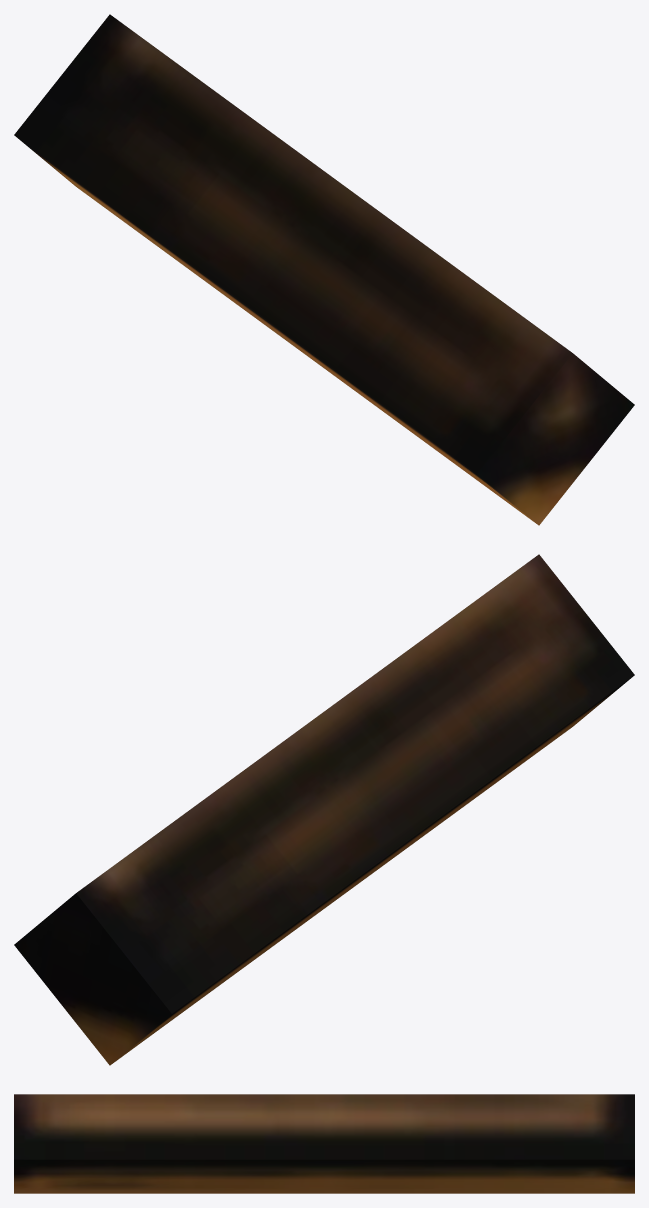
The model's file is pump_body__gauge_needle.glb.
3 renders of one model, top to bottom at view 1: azimuth 30°, elevation 25°; view 2: azimuth 150°, elevation 25°; view 3: azimuth 270°, elevation 25°, orthographic. The views are drawn at different scales.
Parts seen in each view (by area): view 1: geometry_0; view 2: geometry_0; view 3: geometry_0.
Boxes of the visible parts, box(x1,y1,x2,y2) form: geometry_0: box(14, 14, 634, 525); geometry_0: box(14, 554, 634, 1065); geometry_0: box(14, 1094, 634, 1193).
Bounding box in the file's own units: 0.00709 × 0.00705 × 0.036.
Materials: 1 (1 with a texture image).
